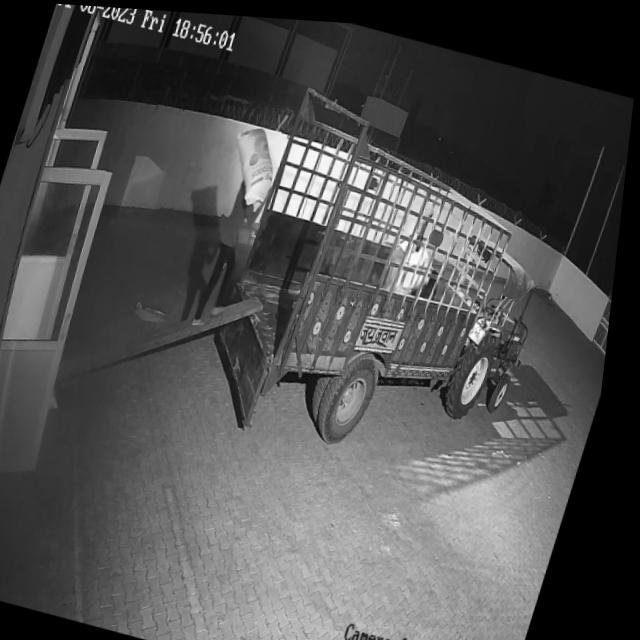sack: (222, 119, 290, 207)
